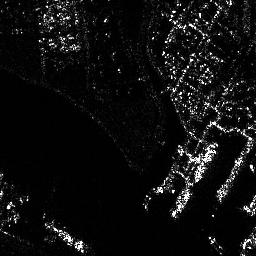ship: (45, 222, 88, 253), (194, 140, 216, 182), (171, 187, 191, 219)
